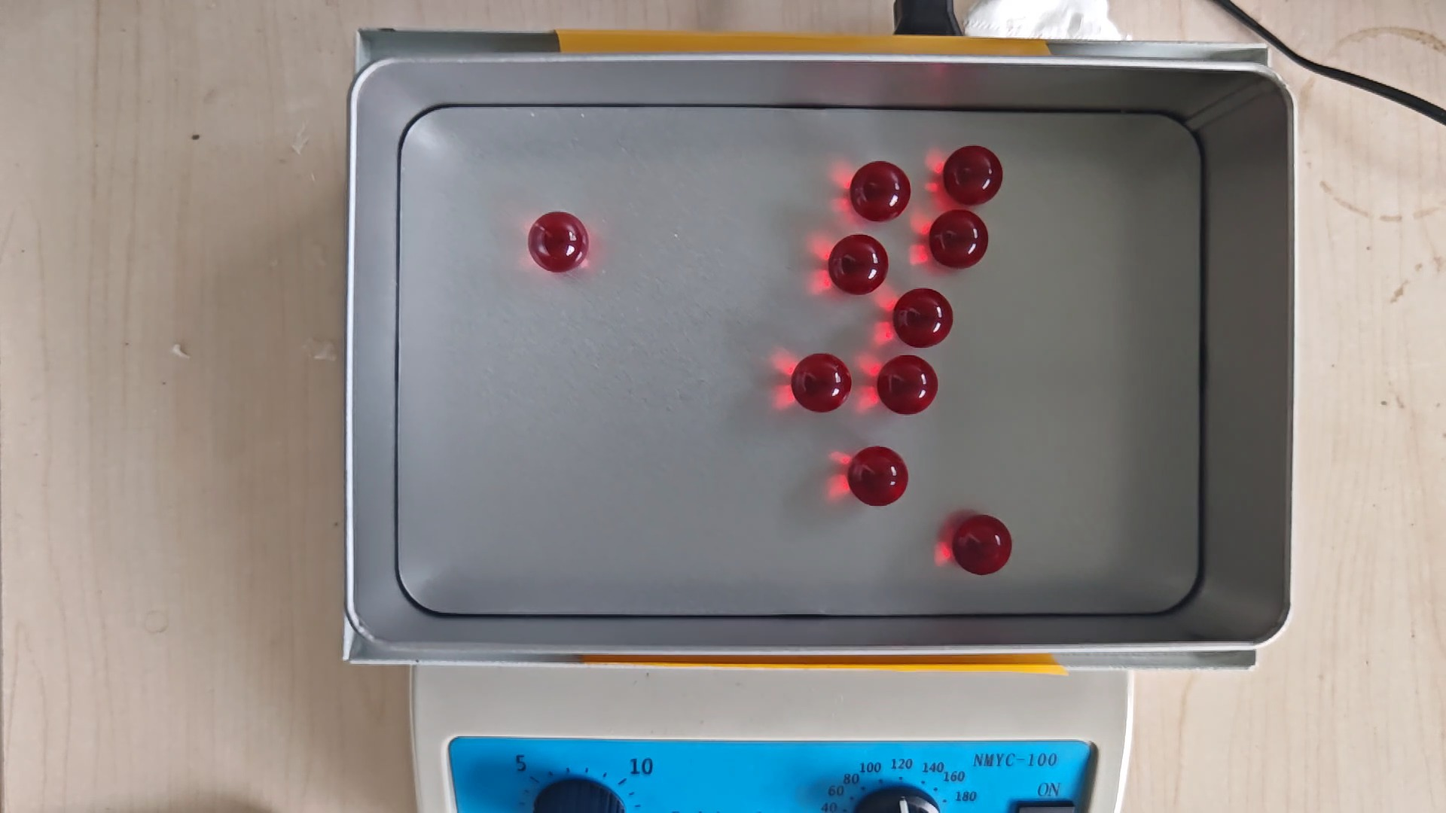ball: (847, 446, 909, 508), (850, 159, 910, 223), (878, 354, 939, 416), (528, 211, 589, 273), (828, 234, 888, 296), (953, 514, 1012, 576), (792, 352, 851, 414), (893, 288, 953, 348), (944, 144, 1003, 205), (930, 208, 988, 269)
container: (397, 107, 1202, 616)
